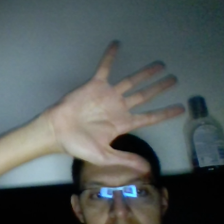left: (43, 33, 191, 176)
